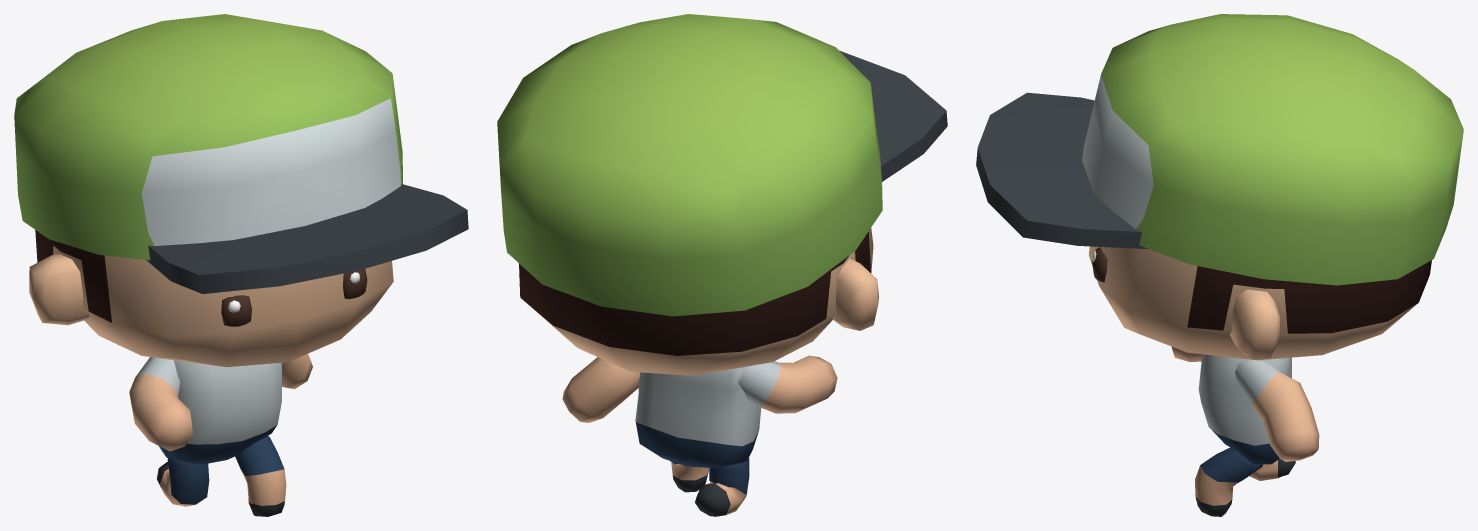
Rendered from run_0003.obj.
3 renders of one model, left to right at view 1: azimuth 30°, elevation 25°; view 2: azimuth 150°, elevation 25°; view 3: azimuth 270°, elevation 25°, orthographic. The views are drawn at different scales.
Parts seen in each view (by area): view 1: Object_41, Object_42, Object_36, Object_44, Object_38; view 2: Object_41, Object_44, Object_36, Object_42; view 3: Object_41, Object_36, Object_42, Object_44.
Boxes of the visible parts, x1=… form: Object_41: x1=14, y1=14, x2=402, y2=260; Object_42: x1=141, y1=98, x2=468, y2=293; Object_36: x1=29, y1=230, x2=393, y2=367; Object_44: x1=129, y1=354, x2=312, y2=516; Object_38: x1=221, y1=269, x2=367, y2=326; Object_41: x1=497, y1=14, x2=882, y2=316; Object_44: x1=562, y1=355, x2=837, y2=516; Object_36: x1=519, y1=228, x2=879, y2=375; Object_42: x1=839, y1=50, x2=947, y2=181; Object_41: x1=1101, y1=14, x2=1463, y2=285; Object_36: x1=1089, y1=246, x2=1431, y2=360; Object_42: x1=976, y1=75, x2=1153, y2=248; Object_44: x1=1171, y1=346, x2=1319, y2=516.
Size of the model in its own units: 0.9691 by 1.19 by 1.15.
